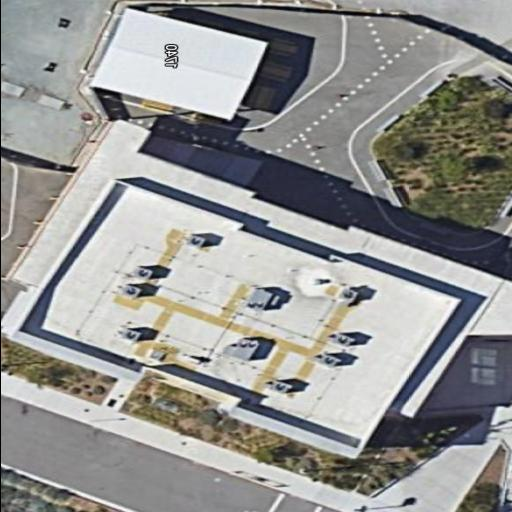Solar-Flat-Roof: (7, 174, 460, 459)
